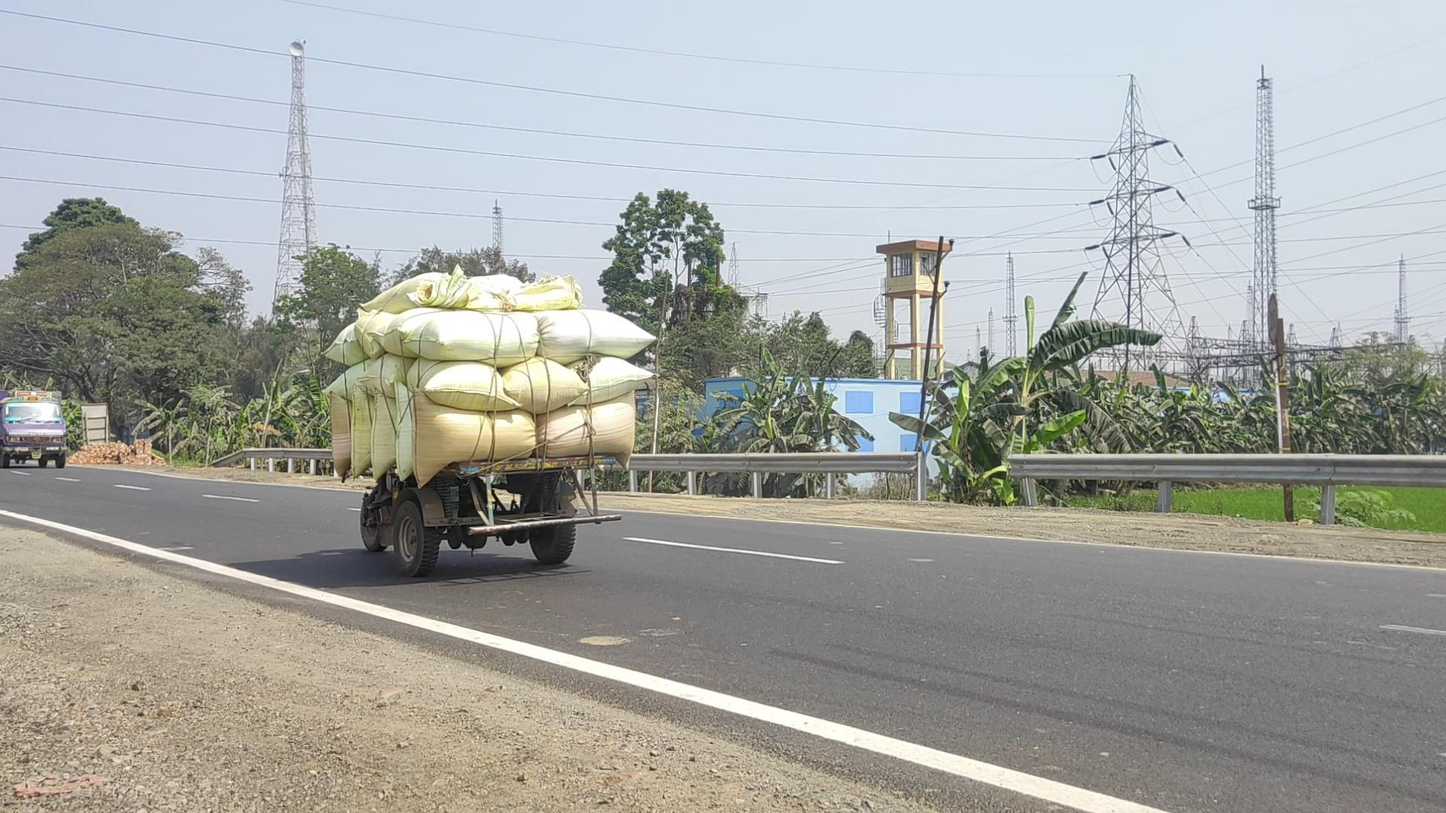truck: (1, 388, 68, 470)
